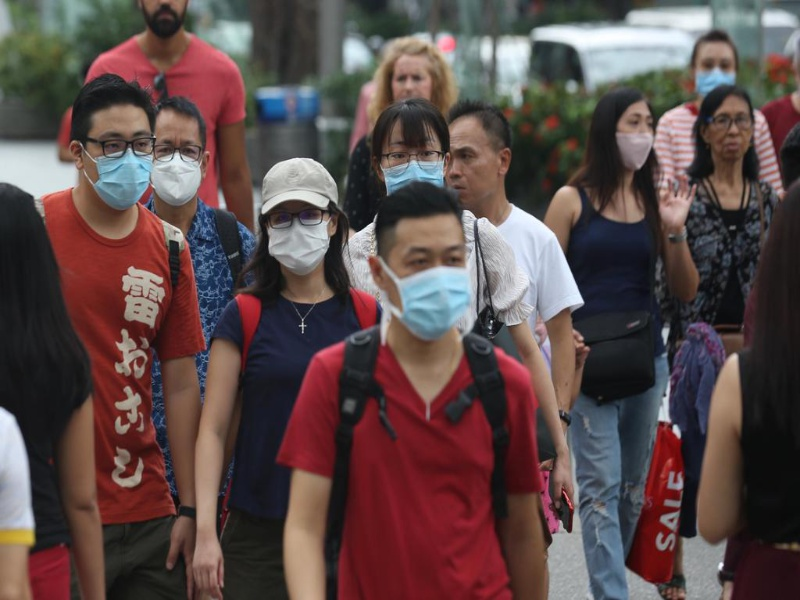ManaoArotava: (371, 188, 487, 358), (249, 163, 354, 303), (68, 82, 162, 226), (360, 103, 458, 211), (148, 97, 212, 220), (605, 87, 676, 185)
TsisyArotava: (441, 102, 502, 223), (692, 84, 767, 166), (139, 2, 190, 42)
